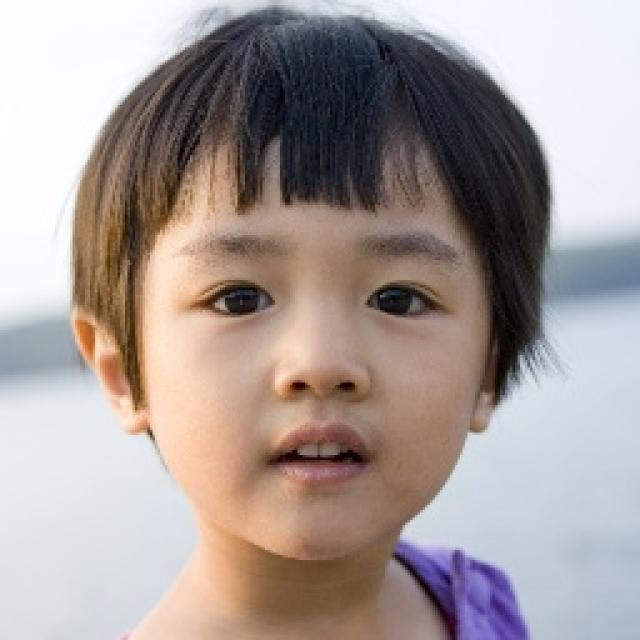earlobe: (116, 390, 150, 436), (468, 389, 495, 433)
eye: (367, 282, 438, 320), (197, 281, 270, 317)
nose: (272, 371, 377, 427)
wholeear: (70, 305, 150, 434)
